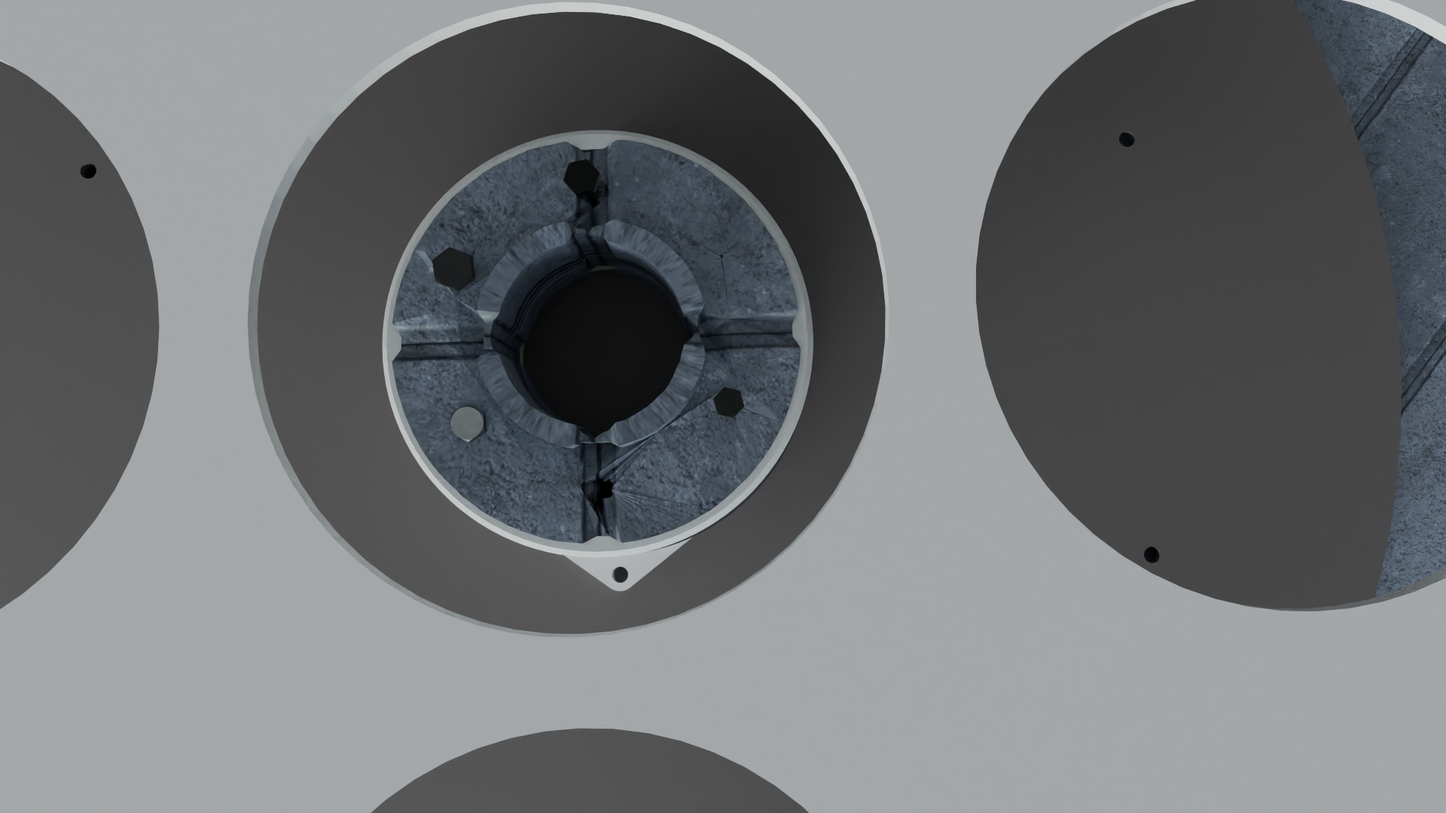bolt: (432, 247, 472, 289), (450, 404, 484, 442), (563, 159, 599, 194), (713, 387, 744, 418)
